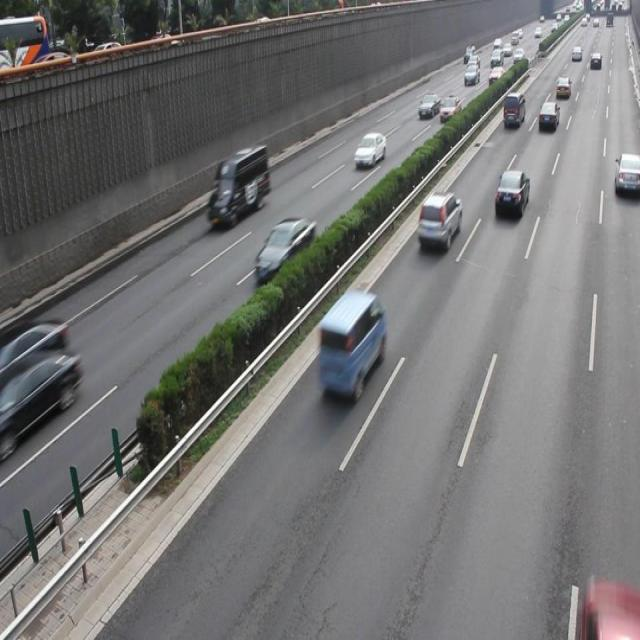car: (317, 289, 385, 401), (1, 348, 84, 438), (1, 317, 68, 387), (253, 216, 315, 283), (415, 190, 461, 250), (492, 168, 529, 218), (612, 150, 640, 196), (353, 130, 385, 168)
truck: (206, 144, 268, 227)
